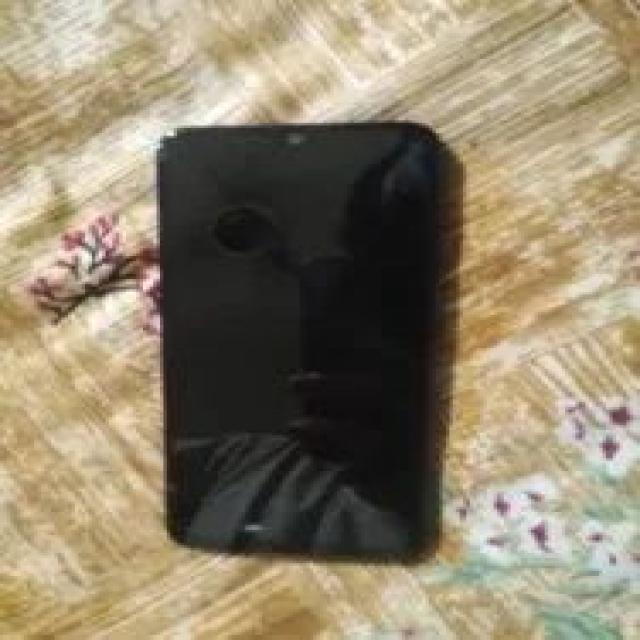mobile phone: (153, 118, 446, 560)
